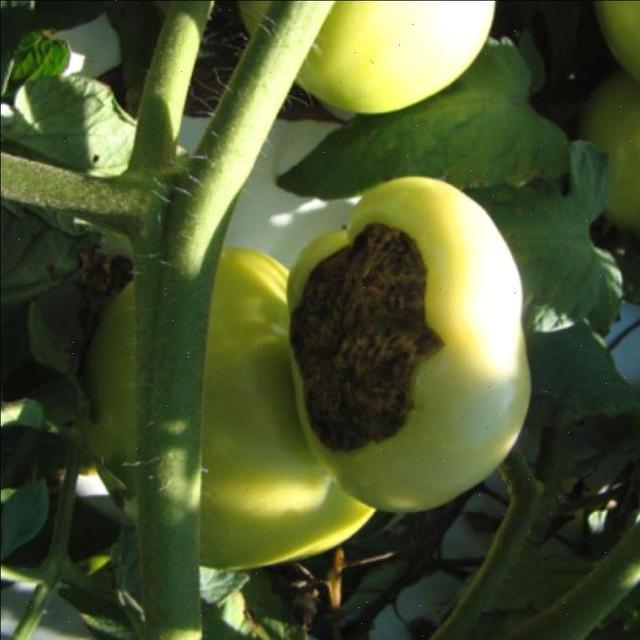Blossom End Rot Fruit: (190, 148, 295, 306)
